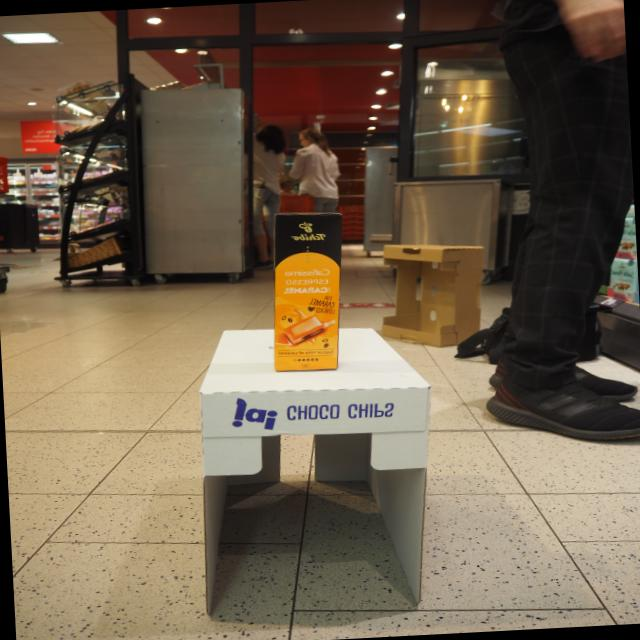Simo Es Caramel: (272, 211, 343, 372)
